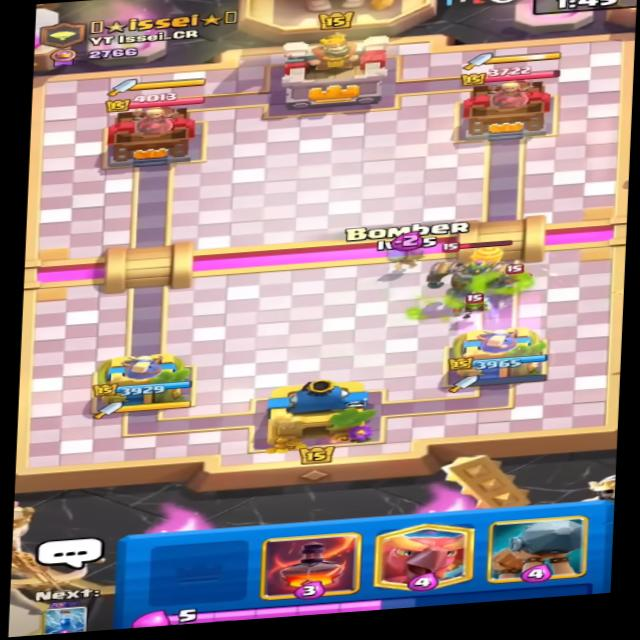goblin: (442, 289, 494, 322)
goblin-machine: (424, 235, 540, 305)
